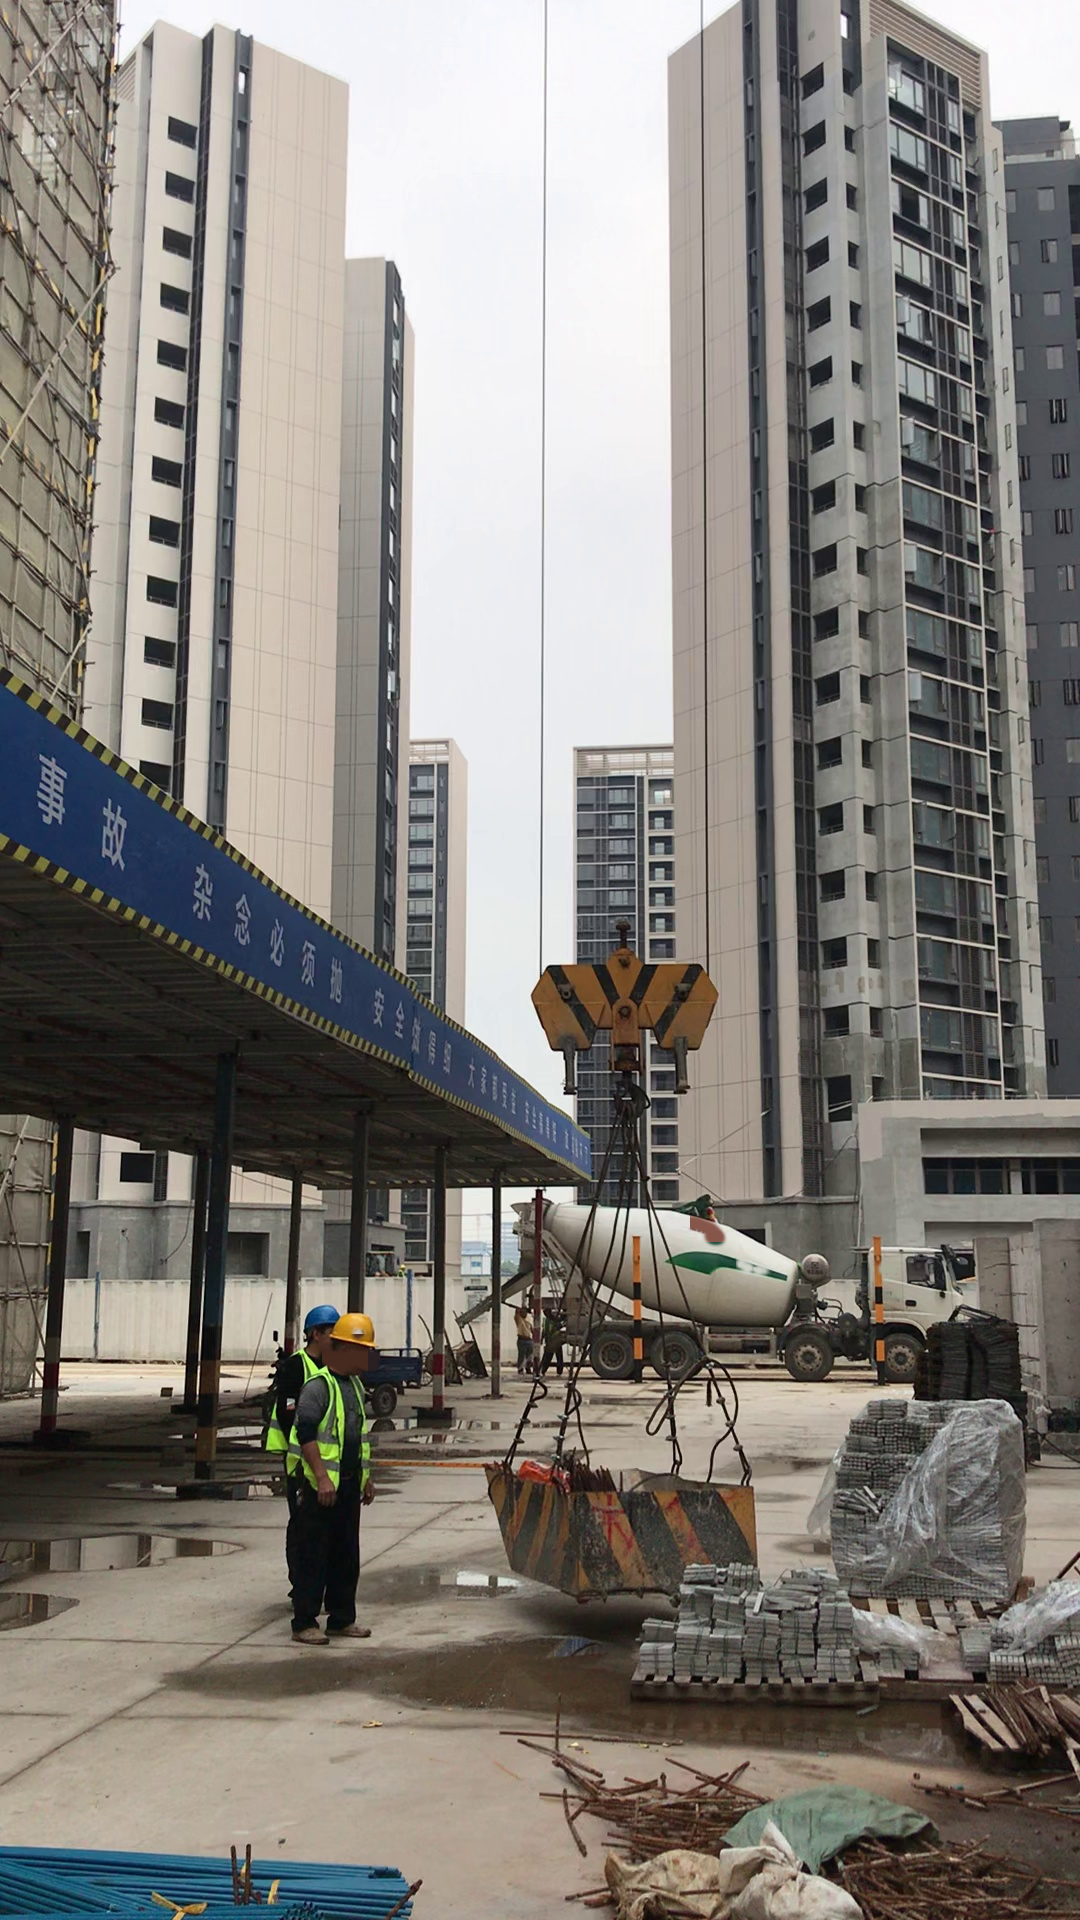handcart: (424, 1311, 500, 1383)
helmet: (334, 1308, 388, 1343), (292, 1301, 338, 1338)
hook: (531, 918, 721, 1072)
person: (282, 1307, 380, 1654), (268, 1283, 332, 1486)
slogan: (23, 710, 595, 1177)
vest: (300, 1368, 346, 1501)
